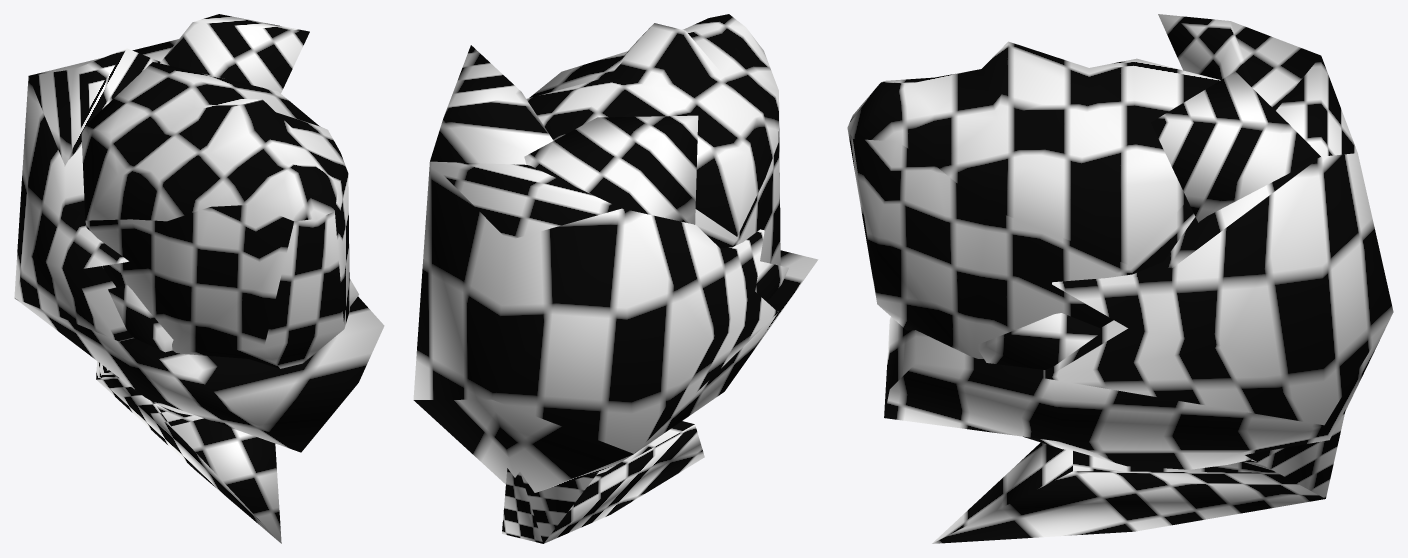
The model's file is infaunhufeth5.dae.
The picture shows the model from 3 angles, left to right: view 1: azimuth 30°, elevation 25°; view 2: azimuth 150°, elevation 25°; view 3: azimuth 270°, elevation 25°; orthographic projection. The views are drawn at different scales.
Visible parts, largest first — view 1: face; view 2: face; view 3: face.
Part boxes in pixels (x1,y1,x2,y2): face: (14,14,384,543); face: (413,14,818,543); face: (847,14,1393,543).
Bounding box in the file's own units: 0.9196 × 1.43 × 1.43.
1 material, 1 textured.
